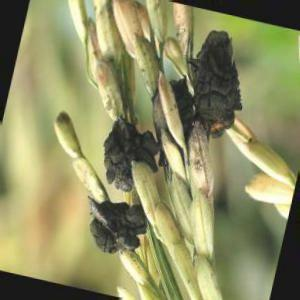Leaf_Scald: (193, 32, 240, 135), (108, 115, 150, 196), (88, 198, 144, 253)
